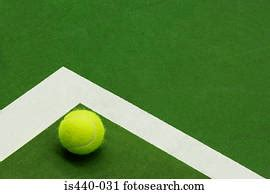tennis_ball: (58, 108, 105, 155)
